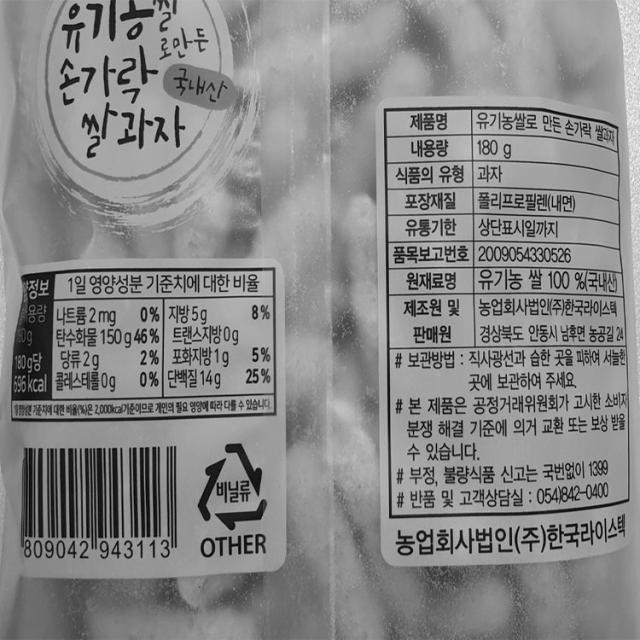Nutrition Label: (5, 263, 287, 427)
